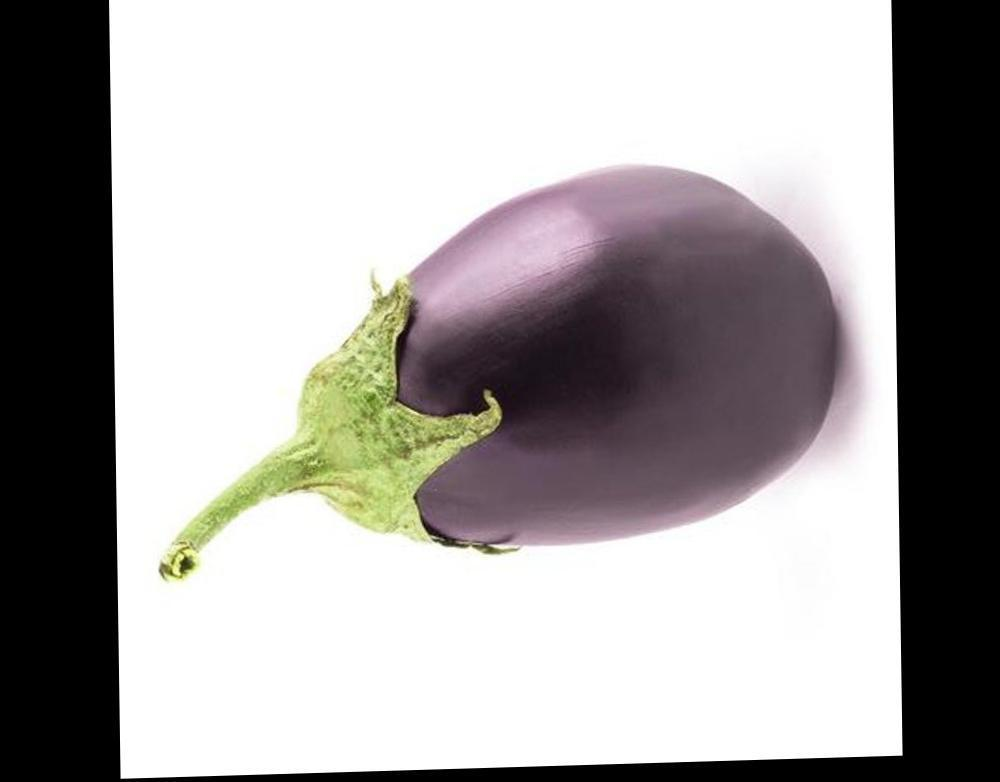eggplant: (189, 83, 841, 712)
